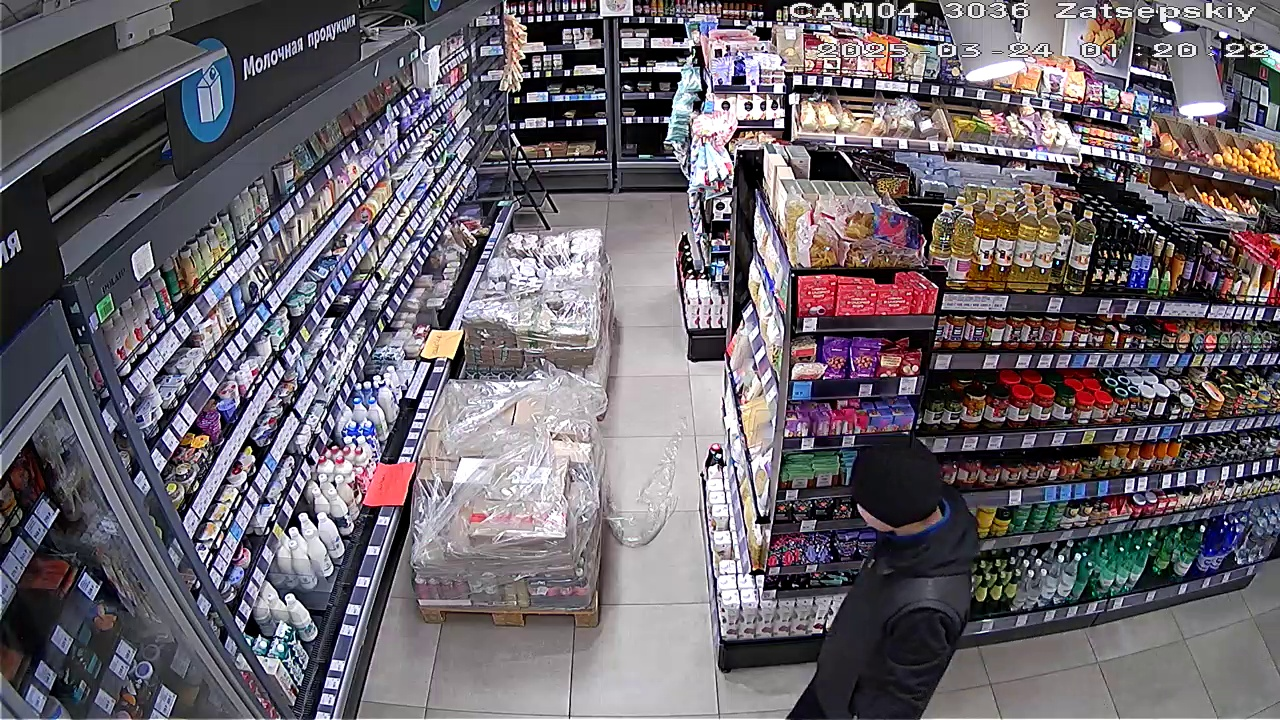Human: (779, 428, 983, 719)
pallet: (411, 368, 616, 634), (464, 217, 616, 395)
